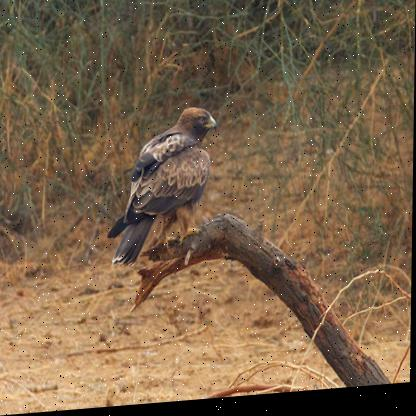Burung: (109, 109, 219, 269)
